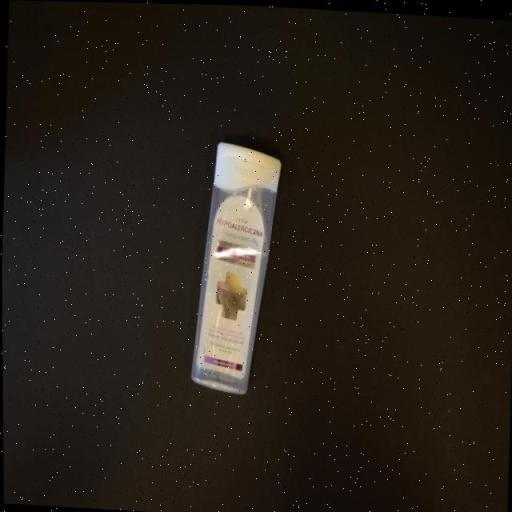plastic: (189, 135, 282, 402)
